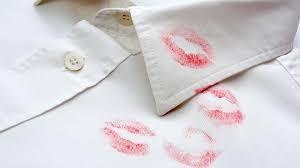lipstick: (162, 24, 212, 74), (100, 128, 153, 166), (162, 137, 214, 168), (202, 102, 251, 131), (191, 82, 242, 107), (107, 114, 154, 138), (181, 124, 210, 143)
